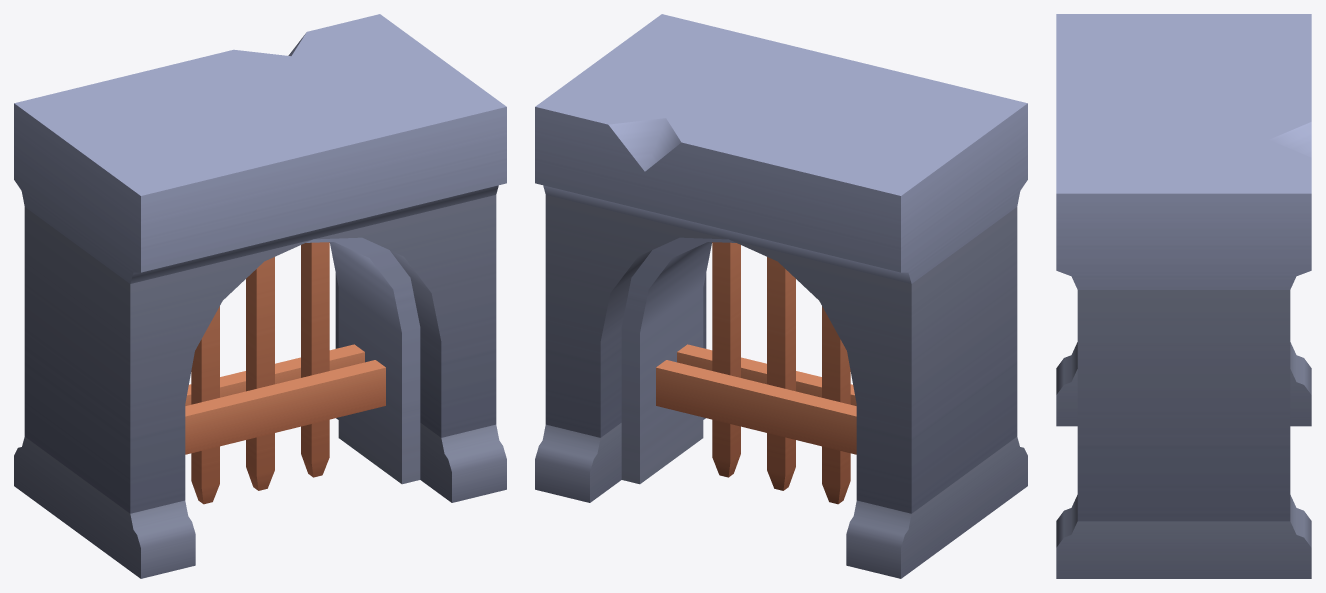
The model's file is wall-gate.obj.
3 renders of one model, left to right at view 1: azimuth 30°, elevation 25°; view 2: azimuth 150°, elevation 25°; view 3: azimuth 270°, elevation 25°, orthographic.
Parts seen in each view (by area): view 1: wall-gate, gate; view 2: wall-gate, gate; view 3: wall-gate.
Part boxes in pixels (<box>): wall-gate: <box>14,14,506,578</box>; gate: <box>185,242,385,504</box>; wall-gate: <box>535,14,1027,578</box>; gate: <box>656,242,856,504</box>; wall-gate: <box>1056,14,1311,578</box>.
Bounding box in the file's own units: 1 × 1 × 0.6.
1 material, 1 textured.
